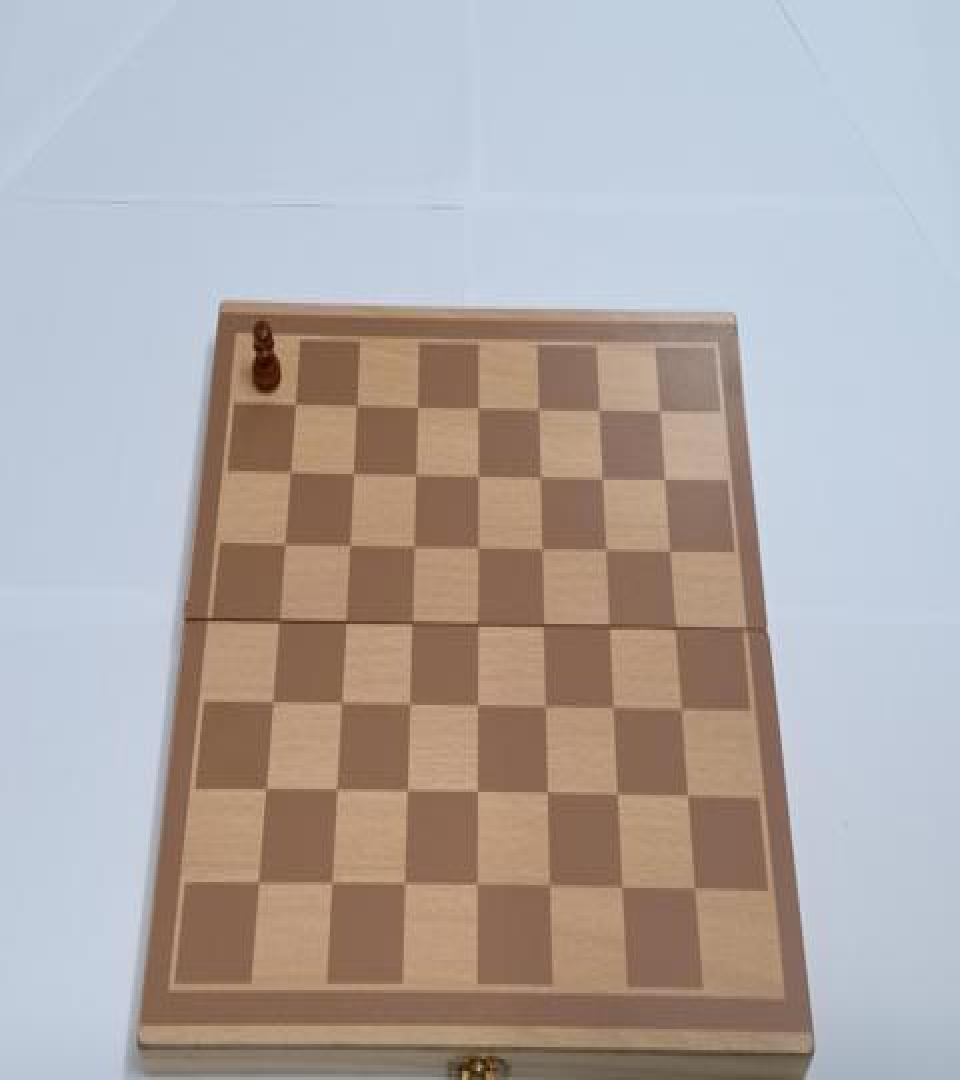xcorner: (287, 394, 305, 422), (399, 694, 417, 722), (466, 694, 484, 722), (529, 466, 547, 494), (591, 466, 609, 494), (282, 462, 300, 489), (270, 610, 288, 637), (256, 778, 274, 805), (249, 870, 267, 897), (347, 396, 365, 423), (335, 612, 353, 639), (331, 693, 349, 720), (326, 780, 344, 807), (408, 396, 426, 423), (405, 465, 423, 492), (403, 537, 421, 564), (396, 780, 414, 807), (468, 397, 486, 424), (467, 465, 485, 492), (467, 537, 485, 564), (465, 873, 483, 900), (528, 397, 546, 424), (531, 538, 549, 565), (532, 615, 550, 642), (534, 696, 552, 723), (537, 874, 555, 901), (588, 399, 606, 426), (595, 538, 613, 565), (598, 615, 616, 642), (605, 783, 623, 810), (609, 874, 627, 901), (649, 399, 667, 426), (653, 468, 671, 495), (658, 540, 676, 567), (664, 617, 682, 644), (675, 785, 693, 812), (681, 876, 699, 903), (276, 536, 294, 562), (263, 692, 281, 718), (343, 464, 361, 490), (340, 536, 358, 562), (321, 872, 339, 898), (401, 614, 419, 640), (393, 872, 411, 898), (467, 614, 485, 640), (466, 782, 484, 808), (535, 782, 553, 808), (602, 698, 620, 724), (669, 698, 687, 724)
